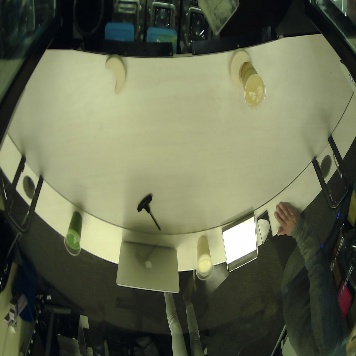full_cup: (239, 62, 271, 114), (186, 231, 218, 283), (57, 208, 89, 260)
puck: (105, 52, 131, 92), (226, 47, 252, 87)
